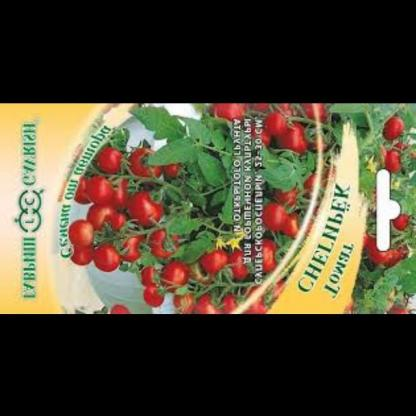tomato: (76, 139, 180, 280), (167, 247, 308, 314), (214, 104, 329, 160), (263, 189, 317, 249), (372, 111, 408, 190)
